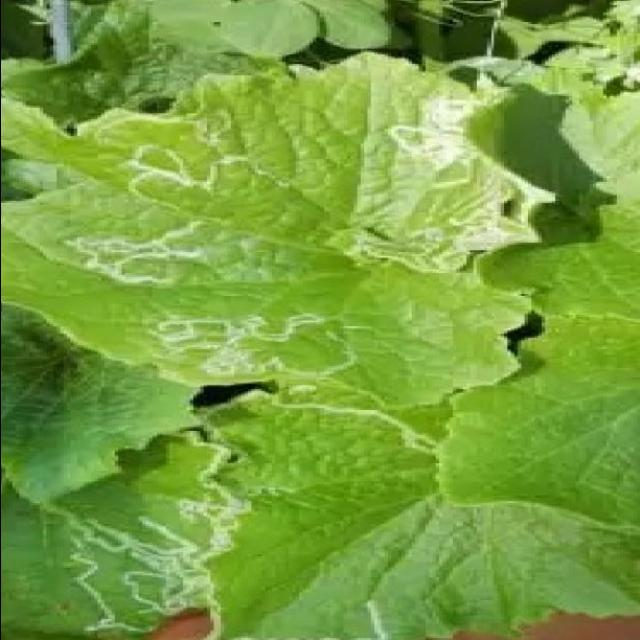Serpentine leafminer: (46, 95, 295, 295), (380, 77, 560, 267), (60, 496, 256, 640), (133, 306, 375, 386), (257, 591, 392, 640)
